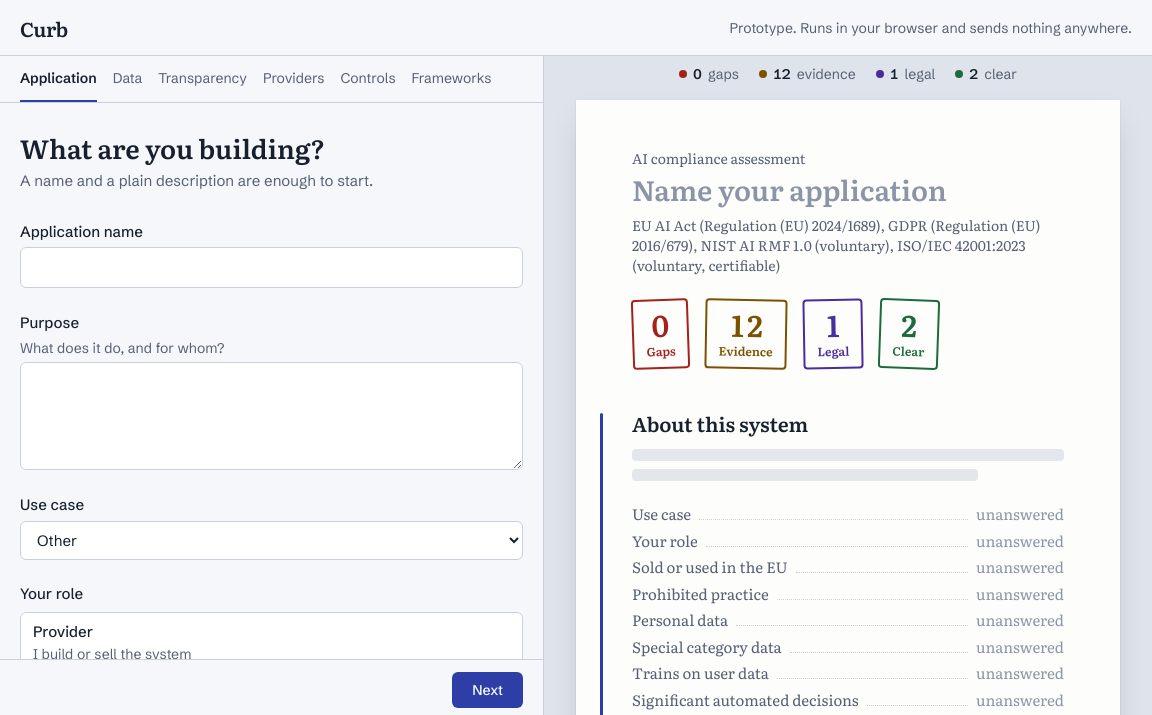
Test: Workspace › reveals follow-up questions only when they apply
Click the button "Transparency" at (203, 79), box [158, 56, 247, 102]
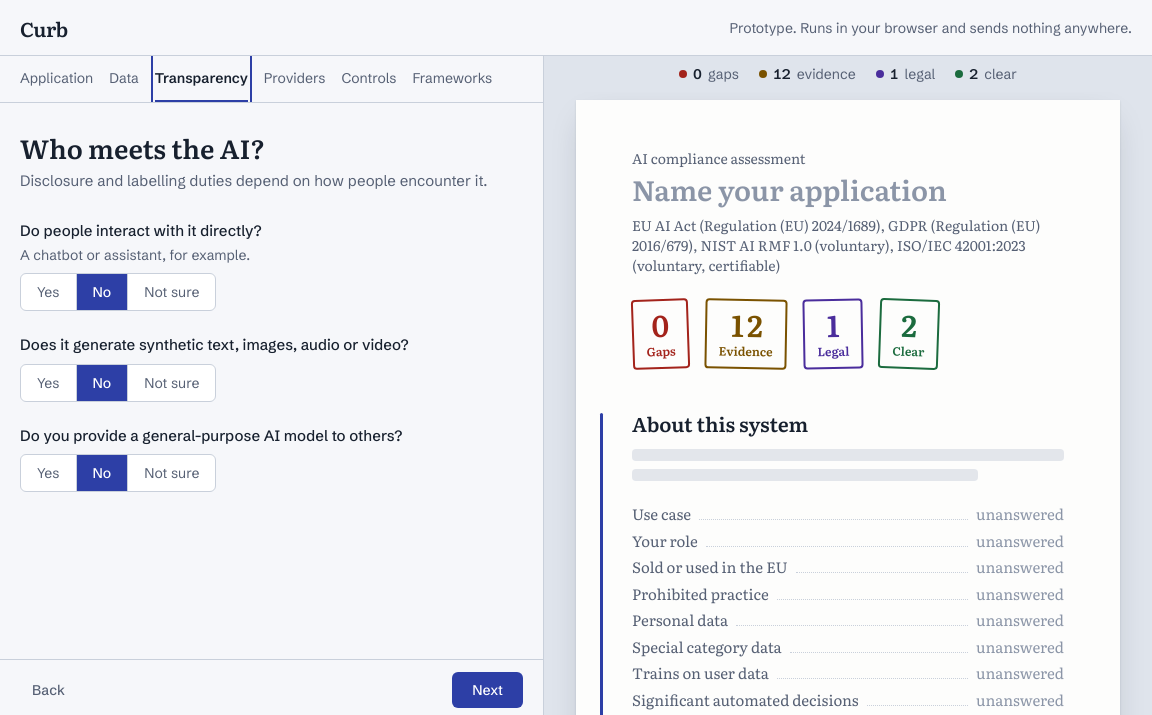
Expected: the text "Are they told it is AI?" is not shown
Click the radio button labelled "Yes" below "A chatbot or assistant, for example." at (49, 292), box [21, 274, 77, 310]
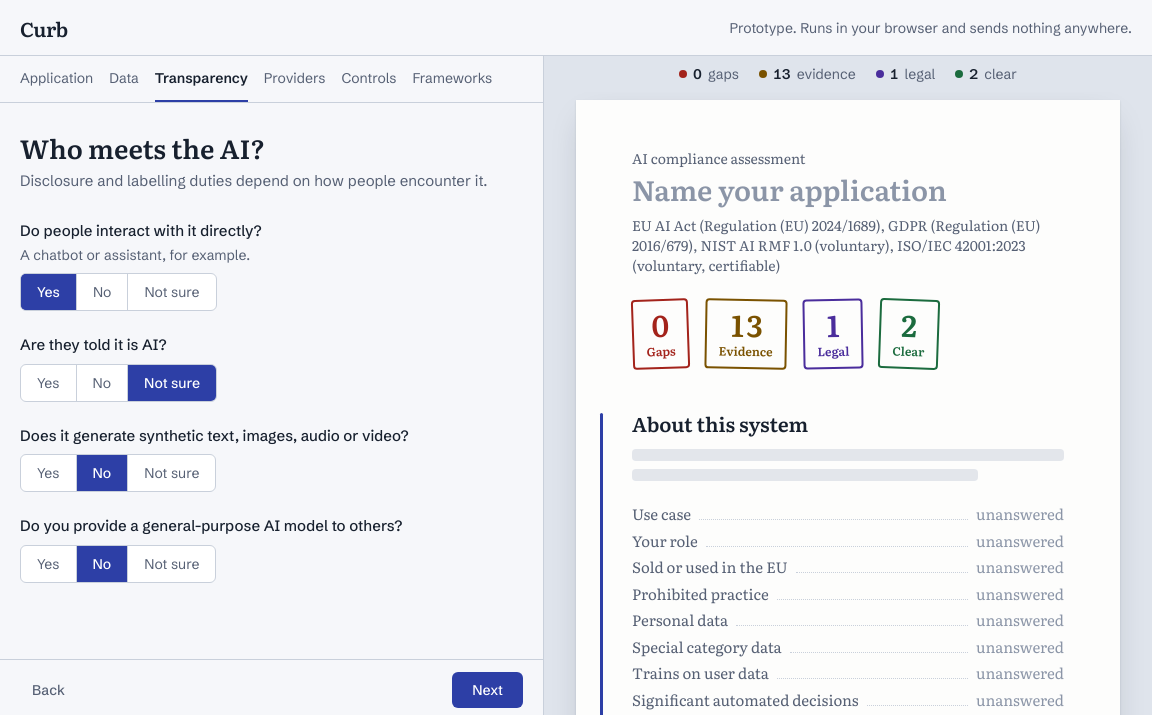
Result: the text "Are they told it is AI?" is shown at [20, 335, 166, 356]
